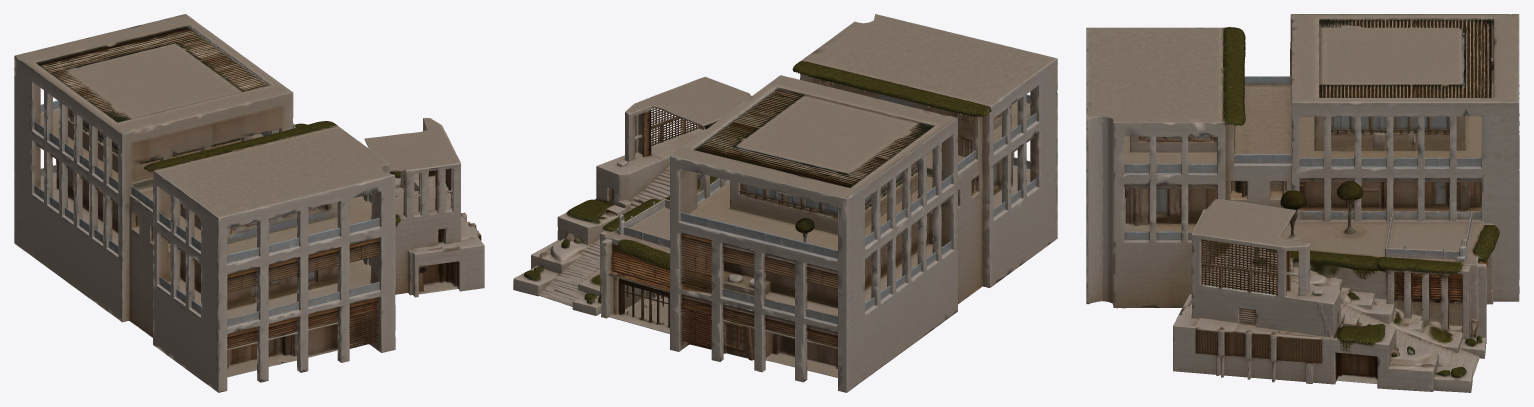
The model's file is shophouse_stair.glb.
The picture shows the model from 3 angles, left to right: view 1: azimuth 30°, elevation 25°; view 2: azimuth 150°, elevation 25°; view 3: azimuth 270°, elevation 25°; orthographic projection. The views are drawn at different scales.
Parts seen in each view (by area): view 1: tripo_node_094b18f9-1ee7-409b-b2a1-6b250812594e; view 2: tripo_node_094b18f9-1ee7-409b-b2a1-6b250812594e; view 3: tripo_node_094b18f9-1ee7-409b-b2a1-6b250812594e.
Boxes of the visible parts, box(x1,y1,x2,y2) form: tripo_node_094b18f9-1ee7-409b-b2a1-6b250812594e: box(14, 14, 484, 392); tripo_node_094b18f9-1ee7-409b-b2a1-6b250812594e: box(513, 14, 1057, 392); tripo_node_094b18f9-1ee7-409b-b2a1-6b250812594e: box(1086, 14, 1519, 392).
Size of the model in its own units: 23.2 by 12 by 23.5.
1 material, 1 textured.
